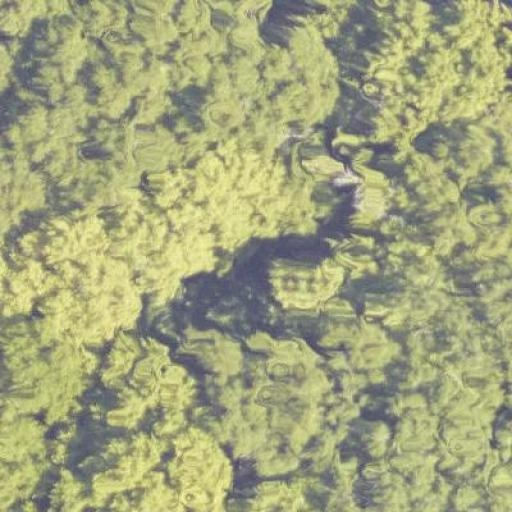tree-top: (196, 320, 314, 463), (360, 43, 509, 149), (21, 206, 137, 337), (159, 149, 285, 255), (388, 284, 501, 381), (92, 339, 194, 438), (16, 92, 105, 192), (6, 324, 95, 420), (312, 318, 396, 416), (269, 26, 345, 130), (258, 246, 355, 323), (180, 57, 258, 140), (79, 430, 162, 506), (162, 429, 240, 507), (423, 203, 512, 270), (0, 401, 53, 510), (95, 54, 171, 128), (133, 217, 200, 300), (354, 460, 452, 512), (25, 15, 93, 82), (1, 145, 56, 226), (384, 391, 443, 457), (399, 139, 459, 201), (234, 473, 328, 512), (440, 122, 498, 182), (373, 0, 434, 57), (346, 164, 401, 227), (125, 0, 185, 55), (443, 0, 502, 47), (316, 460, 366, 509), (357, 416, 396, 462), (0, 0, 50, 34), (1, 32, 21, 92), (494, 408, 512, 466), (448, 483, 482, 512)
